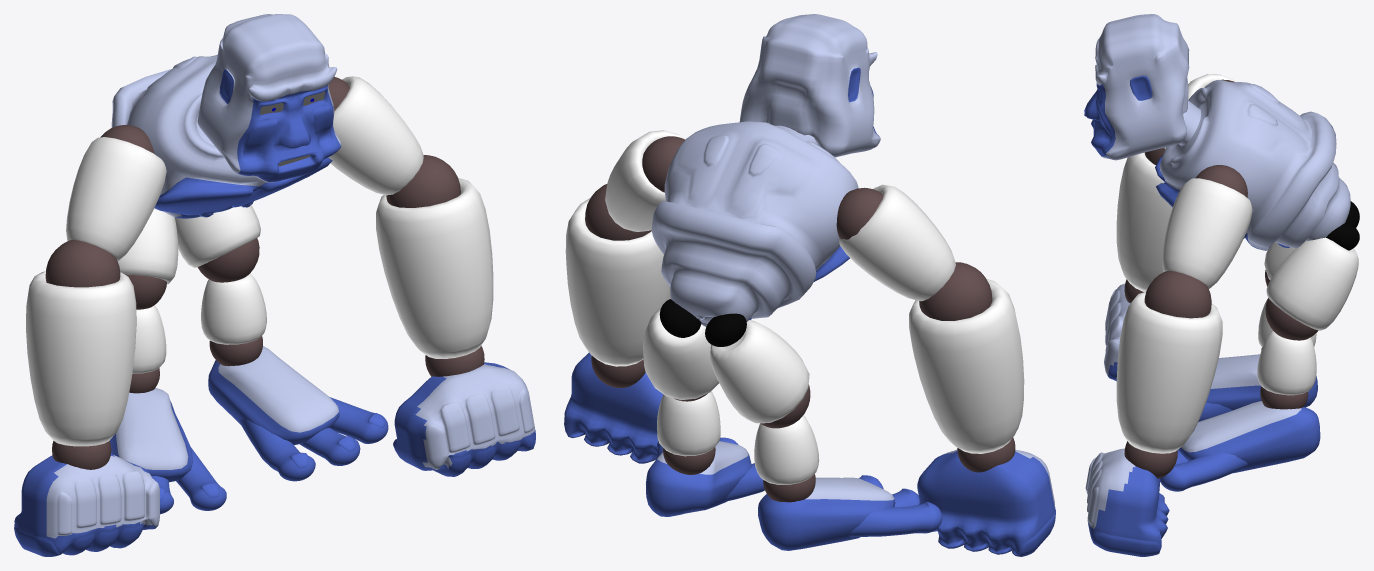
The model's file is YetiGame.fbx.
3 views of the same model, side by side, from view 1: azimuth 30°, elevation 25°; view 2: azimuth 150°, elevation 25°; view 3: azimuth 270°, elevation 25° (orthographic). The views are drawn at different scales.
Visible parts, largest first — view 1: YetiHead, DchaBrazo009, DchaBrazo03, RightFoot, Torso, DchaBrazo05, DchaBrazo011, DchaBrazo008, DchaBrazo02, LeftFoot, Dcha_Jamones_00, Dcha_Jamones_01 (+10 smaller); view 2: Torso, YetiHead, DchaBrazo009, DchaBrazo03, DchaBrazo011, LeftFoot, DchaBrazo008, Izq_Jamones_00, DchaBrazo05, RightFoot, Dcha_Jamones_01, DchaBrazo02 (+12 smaller); view 3: Torso, DchaBrazo03, YetiHead, RightFoot, DchaBrazo02, DchaBrazo05, Dcha_Jamones_01, DchaBrazo009, Dcha_Jamones_00, LeftFoot, DchaBrazo00, DchaBrazo011 (+8 smaller).
Boxes of the visible parts, box(x1,y1,x2,y2) form: YetiHead: box(197, 14, 341, 182); DchaBrazo009: box(26, 271, 136, 446); DchaBrazo03: box(376, 178, 493, 358); RightFoot: box(208, 346, 388, 481); Torso: box(111, 54, 332, 218); DchaBrazo05: box(393, 362, 535, 476); DchaBrazo011: box(14, 454, 159, 556); DchaBrazo008: box(66, 137, 166, 260); DchaBrazo02: box(328, 76, 423, 195); LeftFoot: box(109, 387, 226, 514); Dcha_Jamones_00: box(201, 273, 266, 344); Dcha_Jamones_01: box(175, 205, 260, 267); Torso: box(651, 121, 858, 326); YetiHead: box(739, 14, 880, 157); DchaBrazo009: box(909, 279, 1024, 453); DchaBrazo03: box(565, 198, 670, 366); DchaBrazo011: box(917, 449, 1055, 556); LeftFoot: box(758, 475, 942, 550); DchaBrazo008: box(839, 184, 955, 301); Izq_Jamones_00: box(710, 320, 809, 423); DchaBrazo05: box(564, 352, 663, 463); RightFoot: box(646, 437, 764, 516); Dcha_Jamones_01: box(643, 307, 718, 400); DchaBrazo02: box(605, 130, 685, 231); Torso: box(1155, 80, 1350, 250); DchaBrazo03: box(1116, 291, 1222, 453); YetiHead: box(1084, 14, 1189, 160); RightFoot: box(1160, 401, 1320, 491); DchaBrazo02: box(1162, 178, 1252, 288); DchaBrazo05: box(1085, 448, 1169, 556); Dcha_Jamones_01: box(1266, 237, 1358, 330); DchaBrazo009: box(1116, 152, 1172, 291); Dcha_Jamones_00: box(1257, 330, 1316, 395); LeftFoot: box(1198, 354, 1317, 421); DchaBrazo00: box(1144, 271, 1211, 318); DchaBrazo011: box(1104, 283, 1130, 381).
Bounding box in the file's own units: 899 × 856 × 489.
